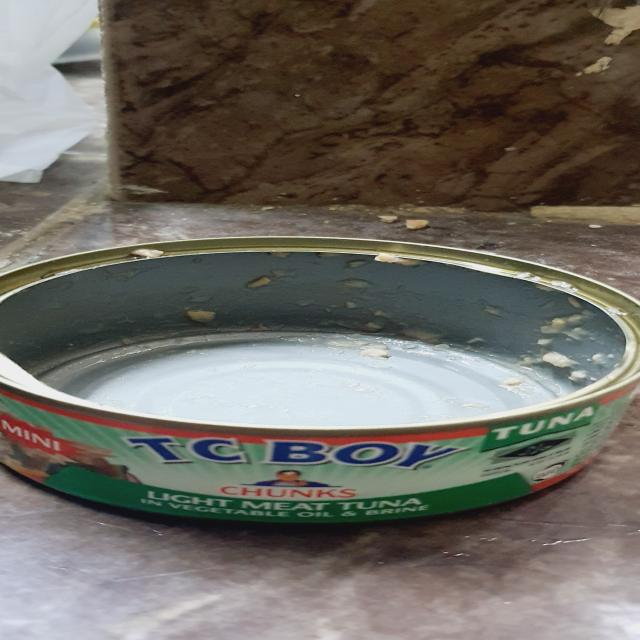Metal: (0, 234, 640, 525)
